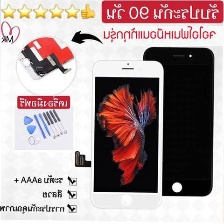phone: (138, 42, 216, 200), (88, 57, 165, 212)
